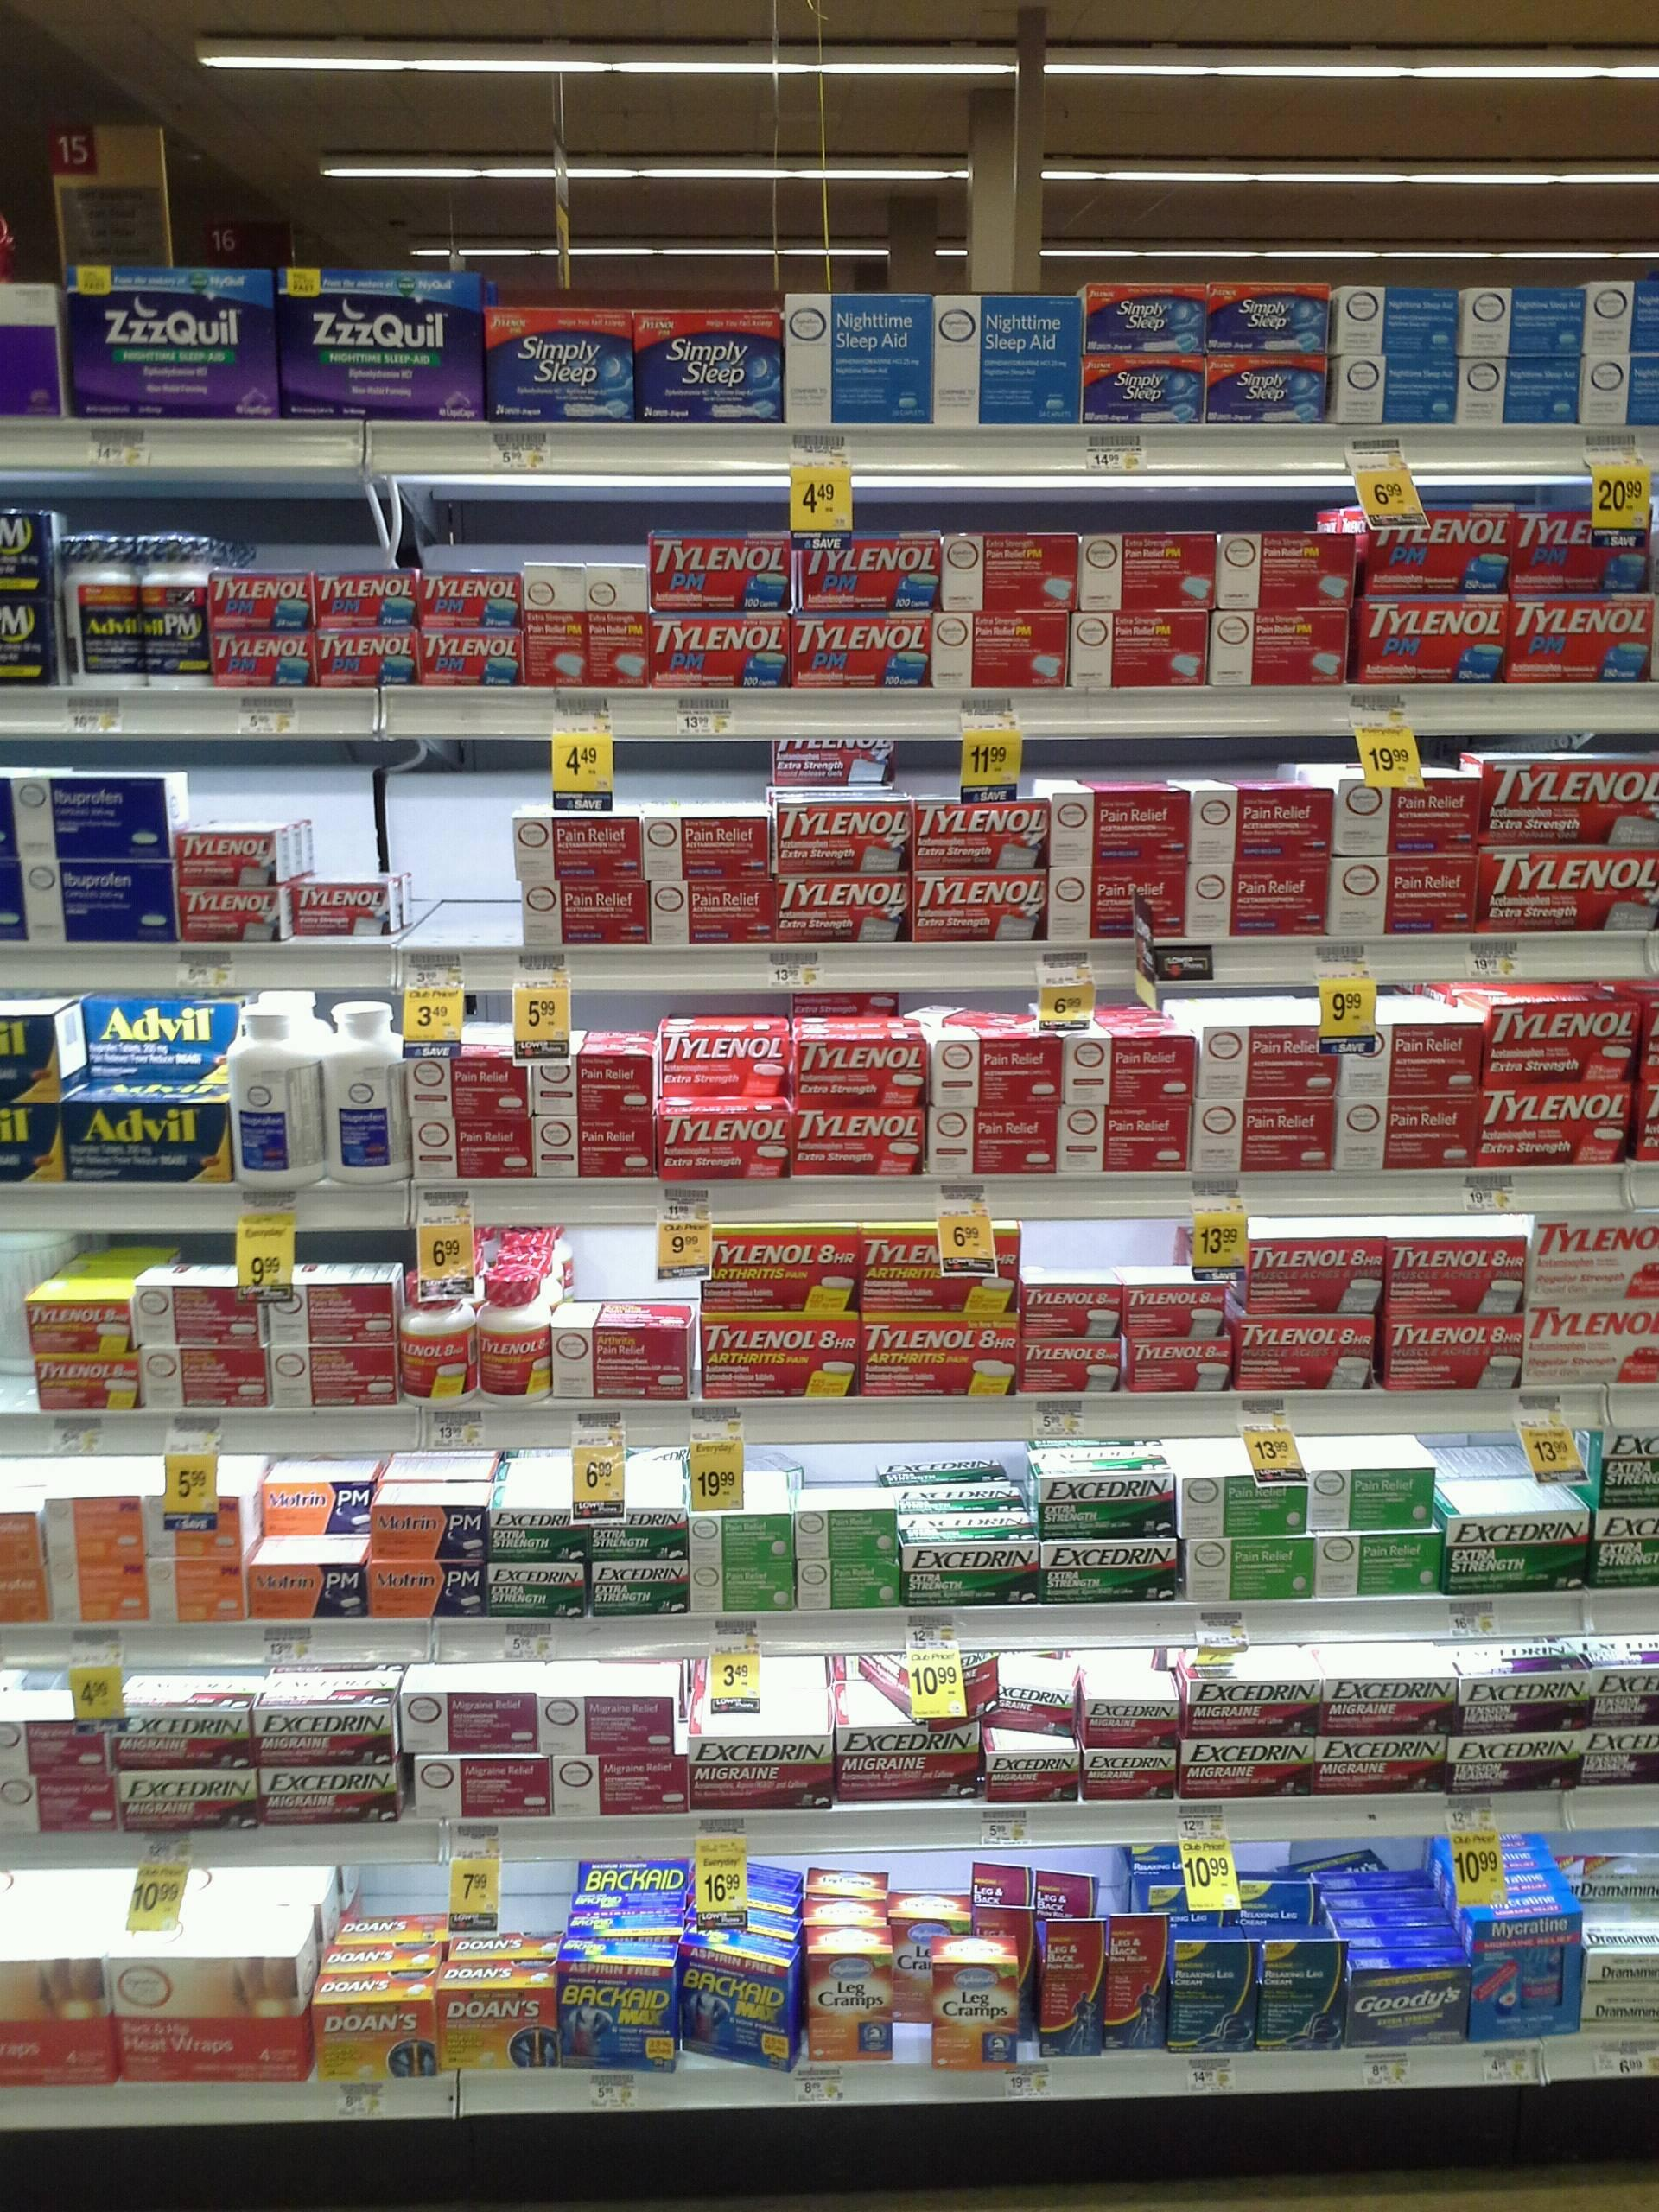empty: (408, 808, 516, 942)
